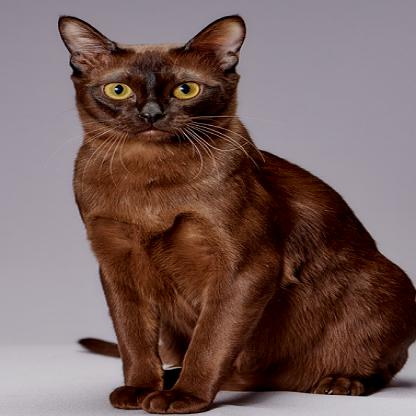cat: (55, 14, 416, 415)
